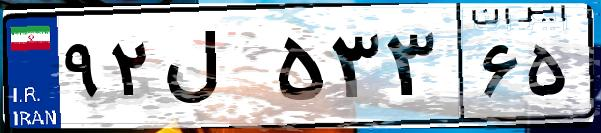2: (110, 28, 158, 98)
3: (385, 28, 445, 110), (330, 28, 385, 110)
5: (270, 28, 330, 110), (525, 38, 570, 115)
6: (475, 38, 525, 113)
9: (57, 26, 110, 100)
ل: (158, 20, 270, 120)
